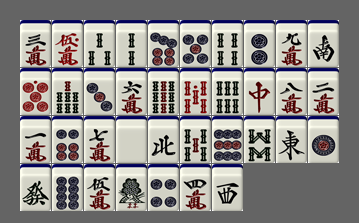0m: (52, 20, 83, 67)
0p: (20, 68, 51, 115)
0s: (180, 68, 211, 115)
1m: (20, 116, 51, 163)
1p: (308, 116, 339, 163)
1s: (116, 164, 147, 211)
1z: (276, 116, 307, 163)
2m: (308, 68, 339, 115)
2p: (244, 20, 275, 67)
2s: (116, 20, 147, 67)
2z: (308, 20, 339, 67)
3m: (20, 20, 51, 67)
3p: (84, 68, 115, 115)
3s: (84, 20, 115, 67)
3z: (212, 164, 243, 211)
4m: (180, 164, 211, 211)
4p: (148, 164, 179, 211)
4s: (212, 20, 243, 67)
4z: (148, 116, 179, 163)
5m: (84, 164, 115, 211)
5p: (180, 20, 211, 67)
5s: (180, 116, 211, 163)
5z: (116, 116, 147, 163)
6m: (116, 68, 147, 115)
6p: (52, 116, 83, 163)
6s: (212, 68, 243, 115)
6z: (20, 164, 51, 211)
7m: (84, 116, 115, 163)
7p: (148, 20, 179, 67)
7s: (52, 68, 83, 115)
7z: (244, 68, 275, 115)
8m: (276, 68, 307, 115)
8p: (52, 164, 83, 211)
8s: (244, 116, 275, 163)
9m: (276, 20, 307, 67)
9p: (212, 116, 243, 163)
9s: (148, 68, 179, 115)
